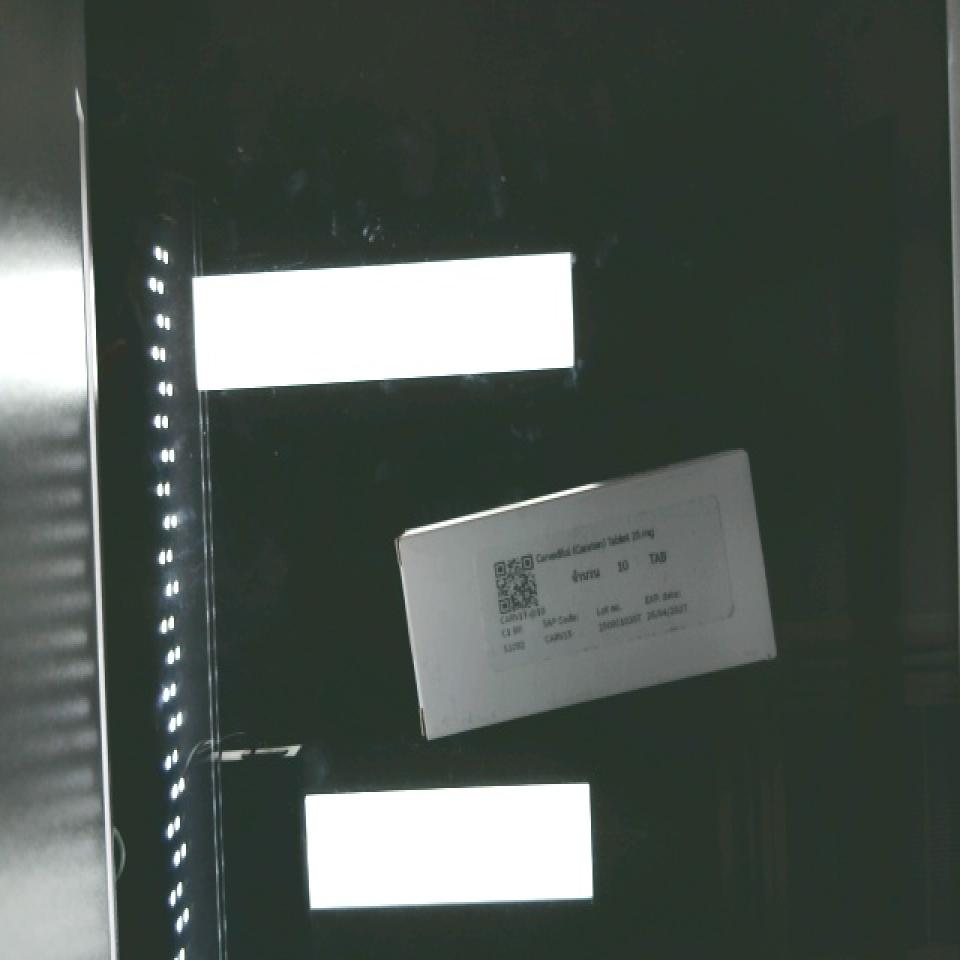medicine_box: (380, 449, 789, 739)
qr_code: (485, 544, 549, 627)
